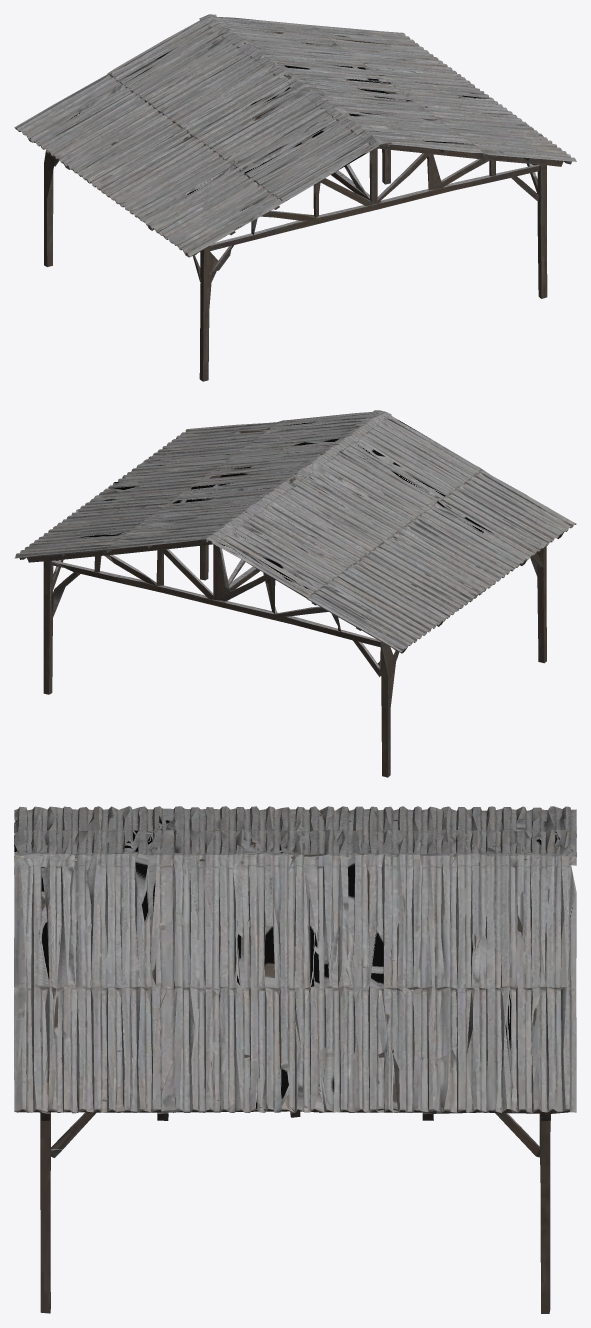
Rendered from ROOF-optimized.glb.
The picture shows the model from 3 angles, top to bottom: view 1: azimuth 30°, elevation 25°; view 2: azimuth 150°, elevation 25°; view 3: azimuth 270°, elevation 25°; orthographic projection. The views are drawn at different scales.
Visible parts, largest first — view 1: output_unwrapped; view 2: output_unwrapped; view 3: output_unwrapped.
Boxes of the visible parts, <box> form: output_unwrapped: <box>14,14,576,381</box>; output_unwrapped: <box>14,410,576,777</box>; output_unwrapped: <box>14,806,576,1313</box>.
Size of the model in its own units: 1.9 by 0.9518 by 1.49.
Materials: 1 (1 with a texture image).
